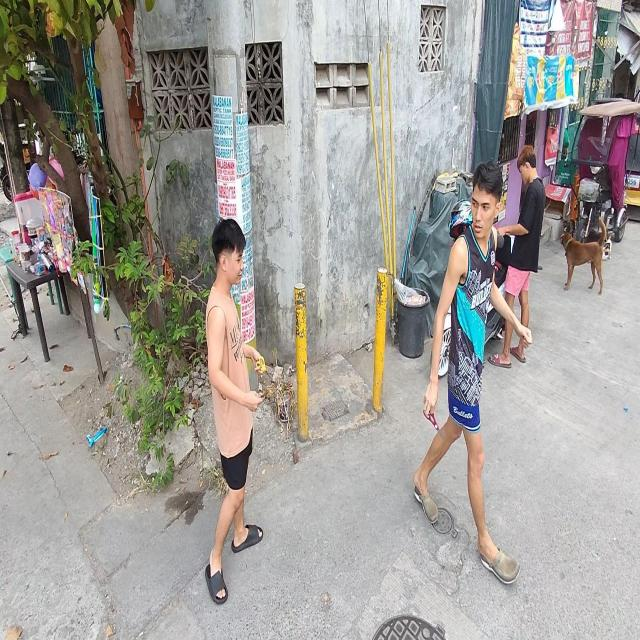scissor: (424, 408, 445, 443), (256, 356, 272, 378)
